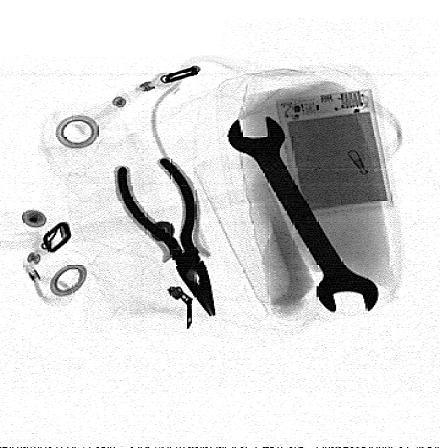Pliers: (114, 154, 216, 318)
Powerbank: (271, 88, 393, 219)
Wrench: (229, 115, 383, 314)
